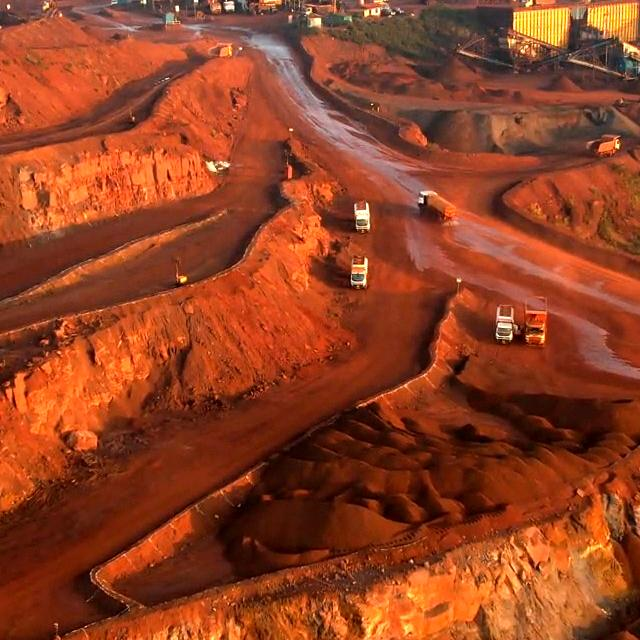Dumper truck: (589, 135, 621, 157)
car: (495, 309, 516, 343), (348, 255, 368, 286), (355, 205, 371, 230)
